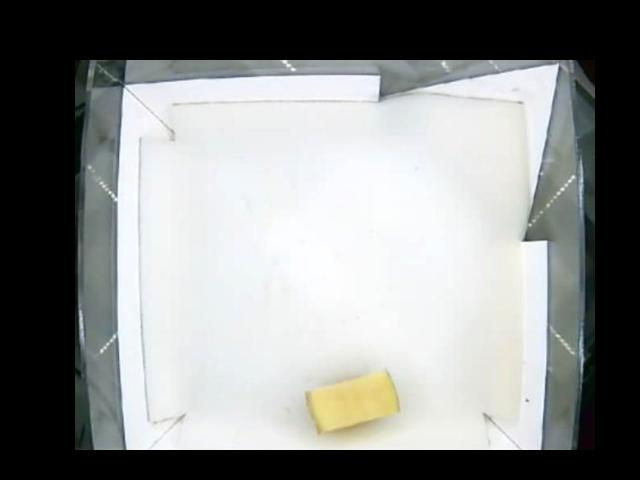Potato: (304, 367, 402, 432)
